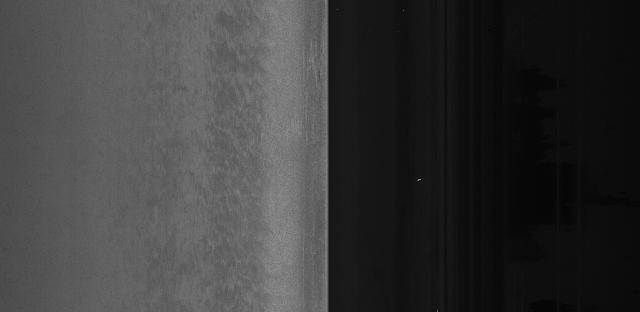silk_spot: (160, 108, 278, 187)
